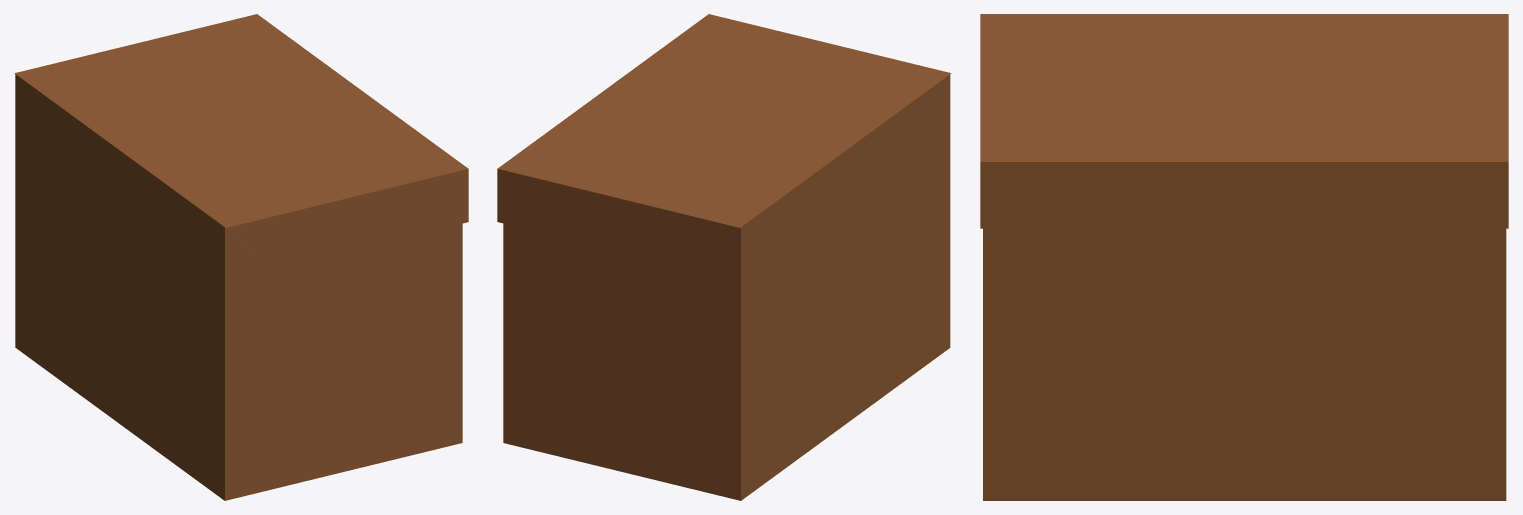
The model's file is EvidenceBox_1.fbx.
3 renders of one model, left to right at view 1: azimuth 30°, elevation 25°; view 2: azimuth 150°, elevation 25°; view 3: azimuth 270°, elevation 25°, orthographic. The views are drawn at different scales.
Parts seen in each view (by area): view 1: Box; view 2: Box; view 3: Box.
Boxes of the visible parts, left/top/right/bottom form: Box: left=14, top=14, right=468, bottom=500; Box: left=497, top=14, right=951, bottom=500; Box: left=980, top=14, right=1508, bottom=500.
Size of the model in its own units: 329 by 355 by 497.
